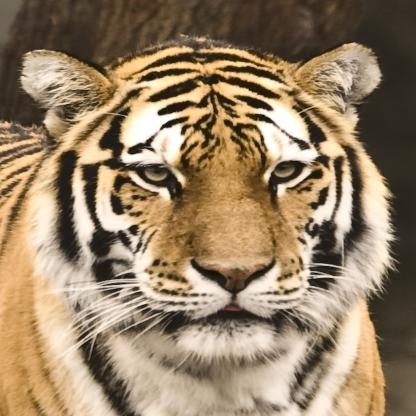Tiger: (0, 30, 403, 415)
